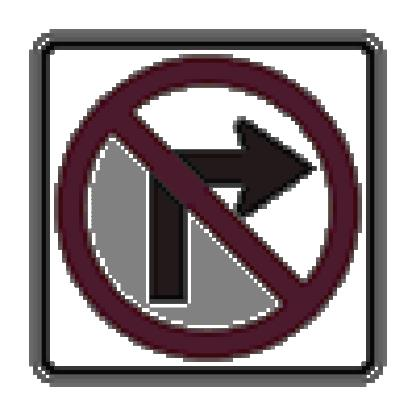No right turn: (47, 48, 363, 363)
